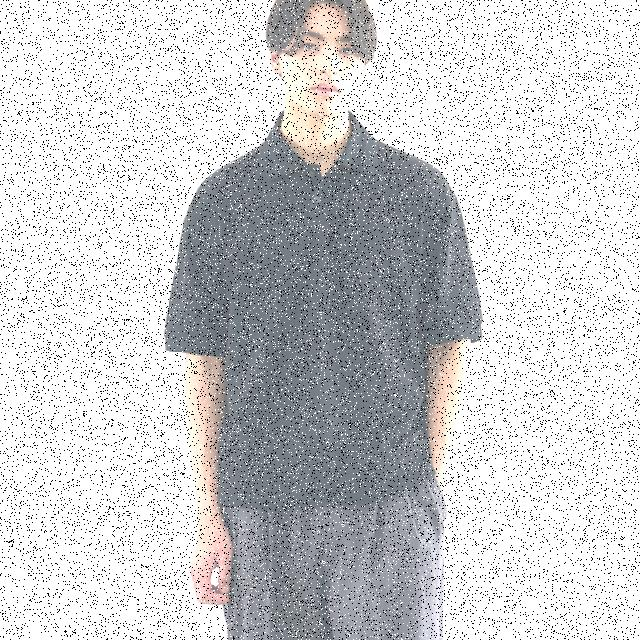Blouse_deep: (162, 98, 484, 490)
